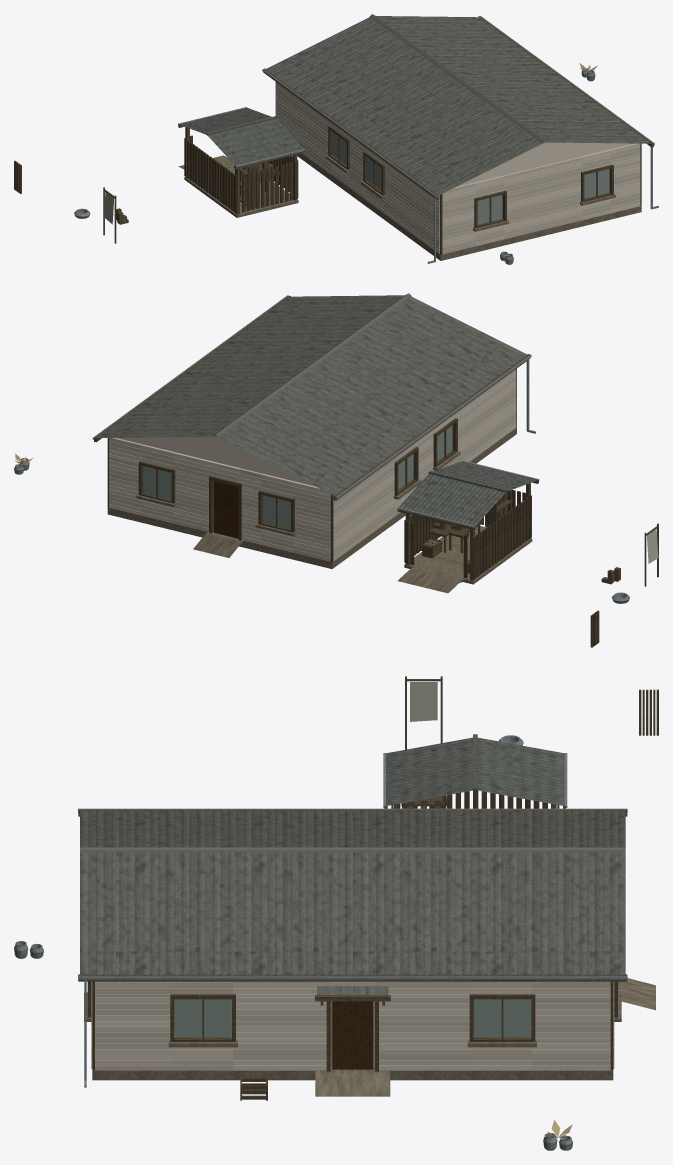
The picture shows the model from 3 angles, top to bottom: view 1: azimuth 30°, elevation 25°; view 2: azimuth 150°, elevation 25°; view 3: azimuth 270°, elevation 25°; orthographic projection. The views are drawn at different scales.
Visible parts, largest first — view 1: H35_CHAPAS_ONDULADAS, H35_LATERAIS, H35_FUNDOS, H35_OFICINA_RIPAS, H35_OFICINA_COBERTURA, H35_FUNDACAO, H35_OITOES, H35_VIDROS_RECUADOS, H35_CAIXILHOS, H35_BEIRAIS, H35_CUMEEIRA, H35_CALHA (+2 smaller); view 2: H35_CHAPAS_ONDULADAS, H35_LATERAIS, H35_FUNDOS, H35_OFICINA_COBERTURA, H35_OFICINA_RIPAS, H35_OITOES, H35_VIDROS_RECUADOS, H35_FUNDACAO, H35_CAIXILHOS, H35_OFICINA_BASE, H35_BEIRAIS, H35_CUMEEIRA (+5 smaller); view 3: H35_CHAPAS_ONDULADAS, H35_FACHADA, H35_OFICINA_COBERTURA, H35_FUNDACAO, H35_VIDROS_RECUADOS, H35_BEIRAIS, H35_CALHA, H35_CUMEEIRA, H35_PORTA_FOLHA, H35_CAIXILHOS, H35_RAMPA, H35_OFICINA_RIPAS (+4 smaller).
Boxes of the visible parts, x1=… form: H35_CHAPAS_ONDULADAS: x1=266, y1=16, x2=650, y2=195; H35_LATERAIS: x1=442, y1=143, x2=640, y2=254; H35_FUNDOS: x1=276, y1=82, x2=439, y2=253; H35_OFICINA_RIPAS: x1=184, y1=135, x2=298, y2=212; H35_OFICINA_COBERTURA: x1=179, y1=107, x2=303, y2=165; H35_FUNDACAO: x1=297, y1=153, x2=641, y2=260; H35_OITOES: x1=456, y1=142, x2=632, y2=186; H35_VIDROS_RECUADOS: x1=333, y1=132, x2=609, y2=224; H35_CAIXILHOS: x1=328, y1=126, x2=613, y2=228; H35_BEIRAIS: x1=263, y1=16, x2=653, y2=199; H35_CUMEEIRA: x1=369, y1=14, x2=546, y2=143; H35_CALHA: x1=262, y1=16, x2=654, y2=198; H35_CHAPAS_ONDULADAS: x1=97, y1=295, x2=526, y2=495; H35_LATERAIS: x1=109, y1=438, x2=330, y2=561; H35_FUNDOS: x1=333, y1=369, x2=516, y2=561; H35_OFICINA_COBERTURA: x1=399, y1=461, x2=537, y2=525; H35_OFICINA_RIPAS: x1=404, y1=489, x2=531, y2=579; H35_OITOES: x1=117, y1=436, x2=314, y2=486; H35_VIDROS_RECUADOS: x1=143, y1=425, x2=452, y2=528; H35_FUNDACAO: x1=107, y1=427, x2=516, y2=568; H35_CAIXILHOS: x1=138, y1=418, x2=457, y2=532; H35_OFICINA_BASE: x1=404, y1=526, x2=532, y2=584; H35_BEIRAIS: x1=94, y1=295, x2=530, y2=500; H35_CUMEEIRA: x1=213, y1=293, x2=411, y2=437; H35_CHAPAS_ONDULADAS: x1=80, y1=810, x2=625, y2=974; H35_FACHADA: x1=95, y1=981, x2=610, y2=1070; H35_OFICINA_COBERTURA: x1=386, y1=737, x2=564, y2=805; H35_FUNDACAO: x1=92, y1=999, x2=613, y2=1080; H35_VIDROS_RECUADOS: x1=175, y1=999, x2=530, y2=1037; H35_BEIRAIS: x1=78, y1=809, x2=627, y2=981; H35_CALHA: x1=78, y1=808, x2=627, y2=979; H35_CUMEEIRA: x1=80, y1=847, x2=625, y2=852; H35_PORTA_FOLHA: x1=332, y1=1001, x2=373, y2=1069; H35_CAIXILHOS: x1=87, y1=981, x2=617, y2=1041; H35_RAMPA: x1=315, y1=1072, x2=390, y2=1096; H35_OFICINA_RIPAS: x1=391, y1=790, x2=559, y2=808.
Size of the model in its own units: 25.4 by 4.36 by 16.33.
13 materials, 8 textured.
